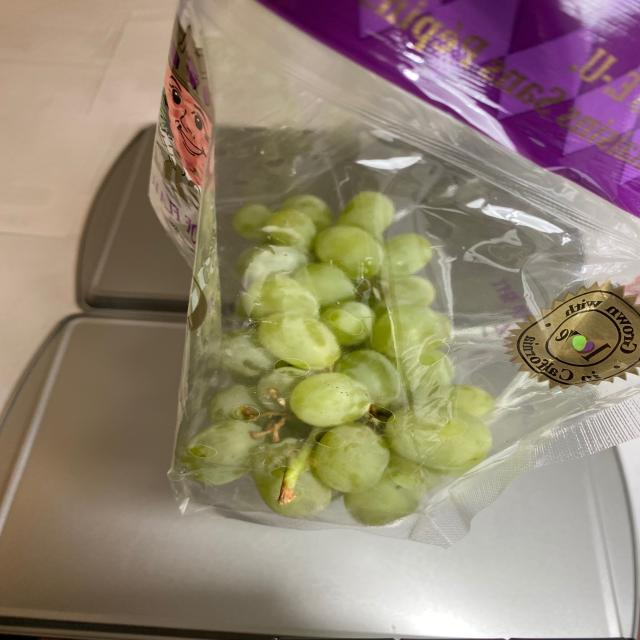grapes: (208, 181, 490, 521)
